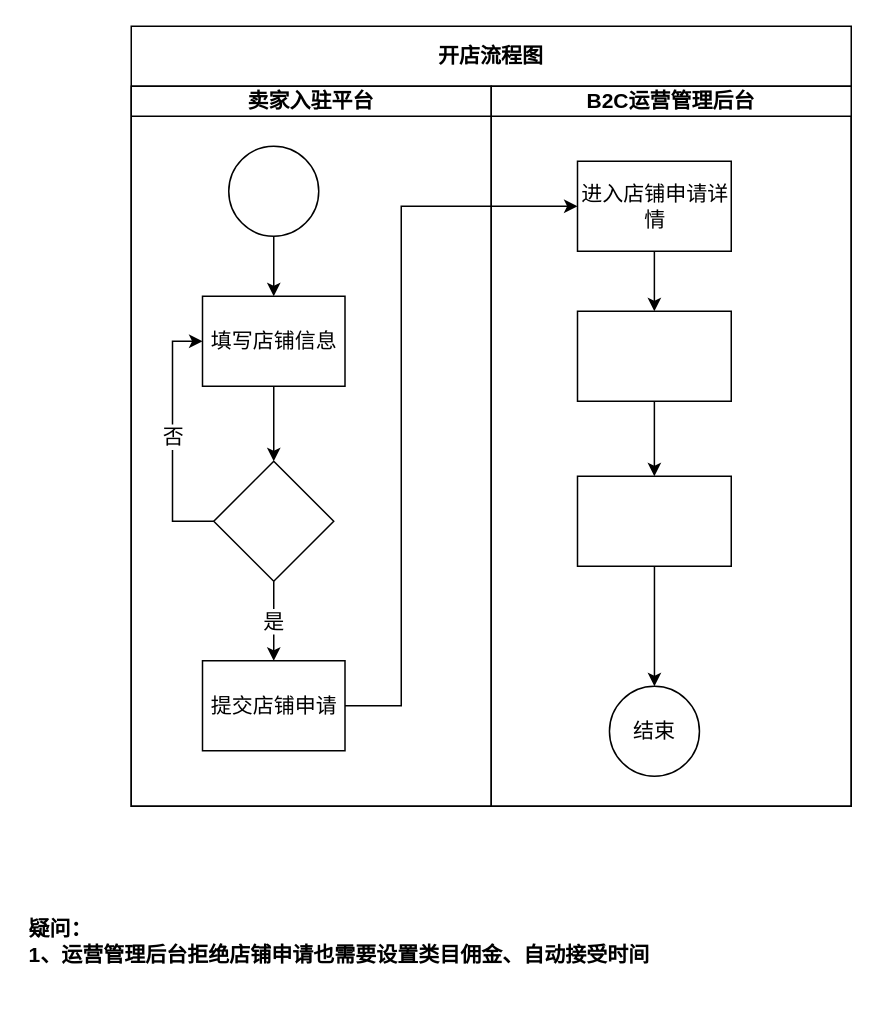
Image size: 878x1028. Some labels were removed from this diagram. Here are the shapes that lost their labels. From the top down, the centre of each, then its label:
At pixel 273 190: "登录卖家账号".
At pixel 653 355: "设置类目佣金、自动接受时间".
At pixel 273 520: "校验通过".
At pixel 653 520: "提交审核结果".
